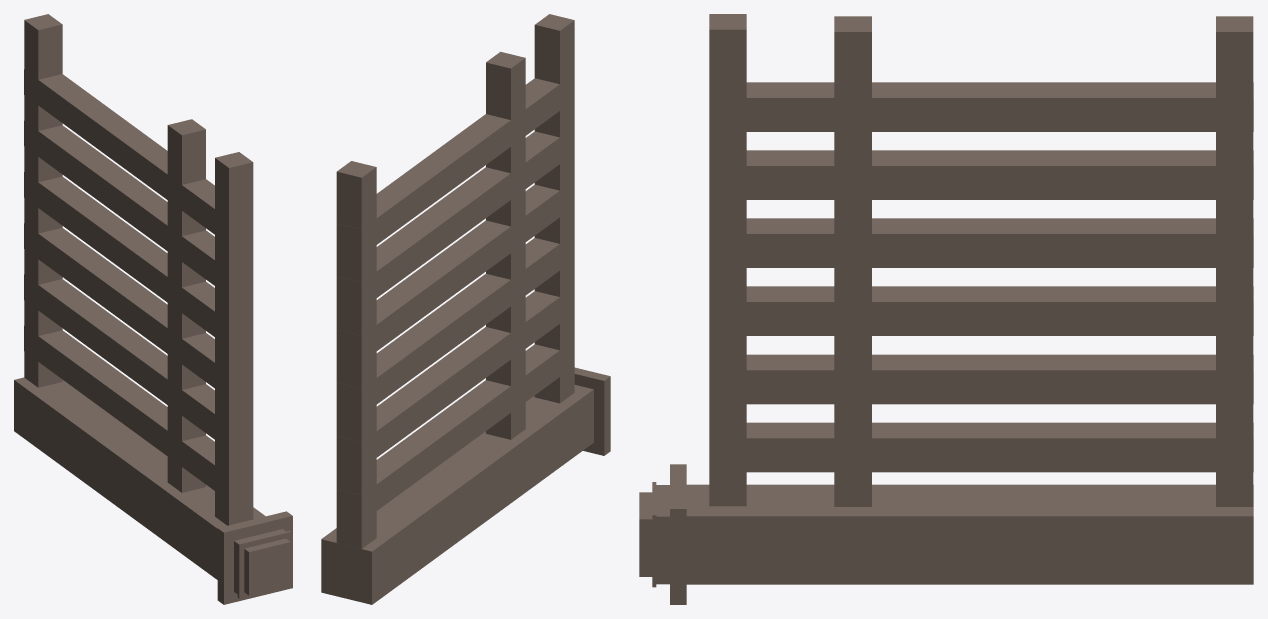
Rendered from fence.fbx.
3 views of the same model, side by side, from view 1: azimuth 30°, elevation 25°; view 2: azimuth 150°, elevation 25°; view 3: azimuth 270°, elevation 25° (orthographic). The views are drawn at different scales.
Visible parts, largest first — view 1: Cube.060; view 2: Cube.060; view 3: Cube.060.
Part boxes in pixels (x1=…): Cube.060: x1=14, y1=14, x2=292, y2=604; Cube.060: x1=321, y1=14, x2=610, y2=604; Cube.060: x1=639, y1=14, x2=1253, y2=604.
Bounding box in the file's own units: 281 × 1640 × 1633.
